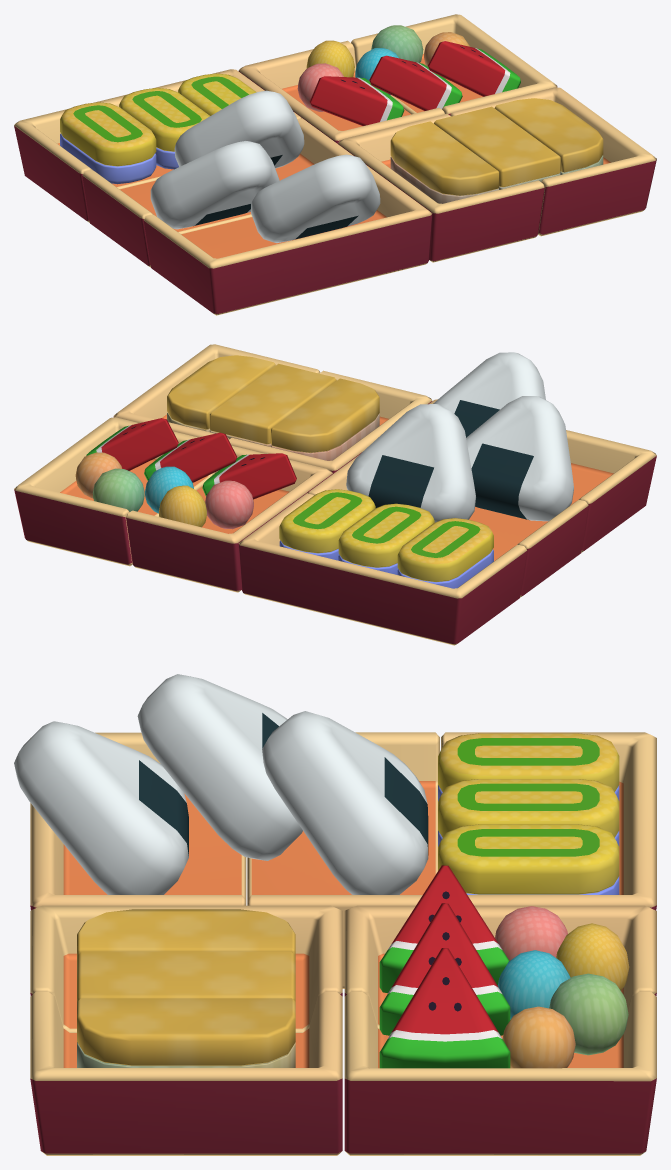
3 renders of one model, top to bottom at view 1: azimuth 30°, elevation 25°; view 2: azimuth 150°, elevation 25°; view 3: azimuth 270°, elevation 25°, orthographic. The views are drawn at different scales.
Visible parts, largest first — view 1: Cube_L1_12, Cube_L1_17, Cube_L1_16, Cube_L1, Cube_L1_6, Cube_L1_13, Cube_L1_7, Cube_L1_11, Cube_L1_22, Cube_L1_25, Cube_L1_18, Cube_L1_14 (+14 smaller); view 2: Cube_L1_11, Cube_L1_6, Cube_L1_7, Cube_L1_14, Cube_L1_15, Cube_L1_12, Cube_L1_13, Cube_L1_22, Cube_L1_25, Cube_L1, Cube_L1_18, Cube_L1_24 (+14 smaller); view 3: Cube_L1_14, Cube_L1_16, Cube_L1, Cube_L1_7, Cube_L1_6, Cube_L1_24, Cube_L1_20, Cube_L1_17, Cube_L1_12, Cube_L1_22, Cube_L1_13, Cube_L1_15 (+13 smaller).
Part boxes in pixels (x1,y1,x2,y2): Cube_L1_12: (143,165,432,315); Cube_L1_17: (338,113,544,262); Cube_L1_16: (450,87,656,236); Cube_L1: (251,154,380,242); Cube_L1_6: (150,141,279,229); Cube_L1_13: (82,118,353,267); Cube_L1_7: (174,90,304,168); Cube_L1_11: (14,69,301,222); Cube_L1_22: (434,106,560,187); Cube_L1_25: (390,121,499,195); Cube_L1_18: (60,102,156,166); Cube_L1_14: (351,14,557,115); Cube_L1_11: (238,493,527,645); Cube_L1_6: (466,396,573,521); Cube_L1_7: (346,404,475,522); Cube_L1_14: (14,417,214,566); Cube_L1_15: (126,445,332,592); Cube_L1_12: (429,399,656,552); Cube_L1_13: (307,455,588,597); Cube_L1_22: (209,363,336,444); Cube_L1_25: (271,378,379,452); Cube_L1: (433,352,545,437); Cube_L1_18: (397,518,493,582); Cube_L1_24: (167,355,275,429); Cube_L1_14: (344,991,656,1155); Cube_L1_16: (30,991,342,1155); Cube_L1: (14,721,188,894); Cube_L1_7: (262,711,428,894); Cube_L1_6: (137,674,302,860); Cube_L1_24: (77,998,295,1065); Cube_L1_20: (438,824,619,894); Cube_L1_17: (30,905,342,1032); Cube_L1_12: (30,732,246,910); Cube_L1_22: (77,951,295,1001); Cube_L1_13: (247,732,439,988); Cube_L1_15: (344,905,656,1029).
Size of the model in its own units: 5.1 by 1.43 by 4.01.
